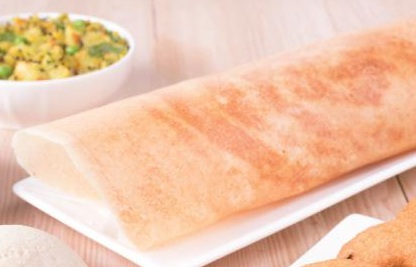dosa: (13, 11, 416, 251)
